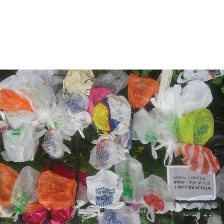plastic_bag: (149, 76, 215, 167), (14, 68, 64, 131), (0, 73, 40, 129), (89, 92, 135, 140), (9, 162, 46, 218), (0, 121, 48, 164), (111, 152, 148, 207), (36, 168, 79, 213), (85, 133, 132, 173), (130, 106, 162, 162), (85, 168, 124, 211), (175, 108, 216, 147), (137, 175, 173, 219), (58, 99, 91, 144), (124, 73, 162, 112), (56, 68, 100, 100), (177, 144, 219, 175), (77, 204, 142, 223), (92, 64, 132, 94), (151, 61, 175, 110), (40, 128, 73, 160), (0, 86, 36, 115), (0, 166, 21, 211), (175, 68, 224, 87)
